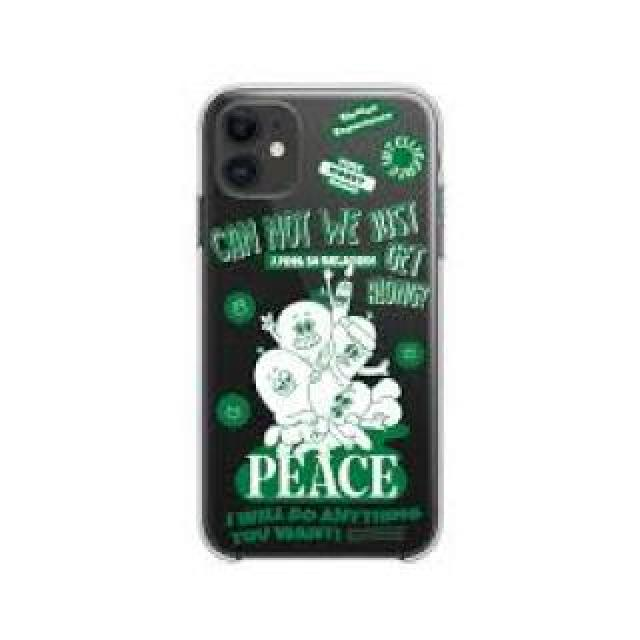smart phone: (197, 42, 448, 590)
